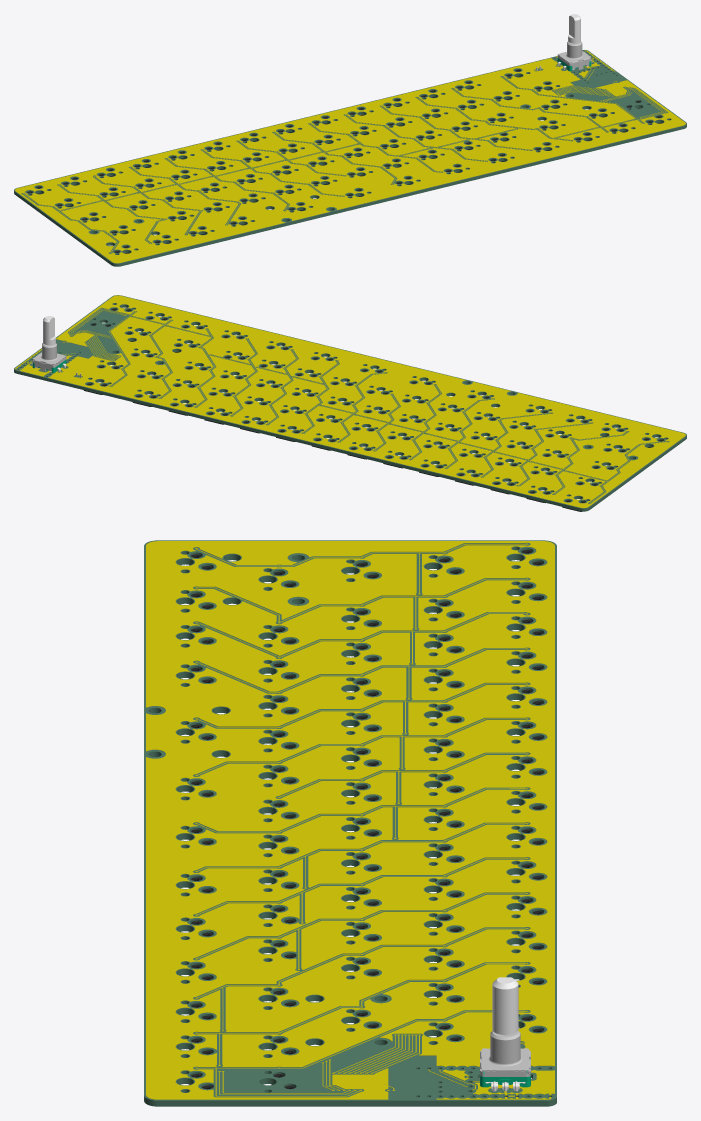
Rendered from keyboard-pcb.glb.
The picture shows the model from 3 angles, top to bottom: view 1: azimuth 30°, elevation 25°; view 2: azimuth 150°, elevation 25°; view 3: azimuth 270°, elevation 25°; orthographic projection. The views are drawn at different scales.
Visible parts, largest first — view 1: =>[0:1:1:16], =>[0:1:1:18], =>[0:1:1:3]; view 2: =>[0:1:1:16], =>[0:1:1:18], =>[0:1:1:3]; view 3: =>[0:1:1:16], =>[0:1:1:18], =>[0:1:1:3].
Boxes of the visible parts, left/top/right/bottom form: =>[0:1:1:16]: left=15, top=50, right=685, bottom=263; =>[0:1:1:18]: left=14, top=50, right=686, bottom=266; =>[0:1:1:3]: left=557, top=14, right=592, bottom=71; =>[0:1:1:16]: left=15, top=295, right=685, bottom=508; =>[0:1:1:18]: left=14, top=295, right=686, bottom=511; =>[0:1:1:3]: left=31, top=316, right=66, bottom=372; =>[0:1:1:16]: left=146, top=541, right=554, bottom=1099; =>[0:1:1:18]: left=144, top=540, right=556, bottom=1106; =>[0:1:1:3]: left=479, top=977, right=531, bottom=1091.
Bounding box in the file's own units: 0.3056 × 0.0311 × 0.0953.
